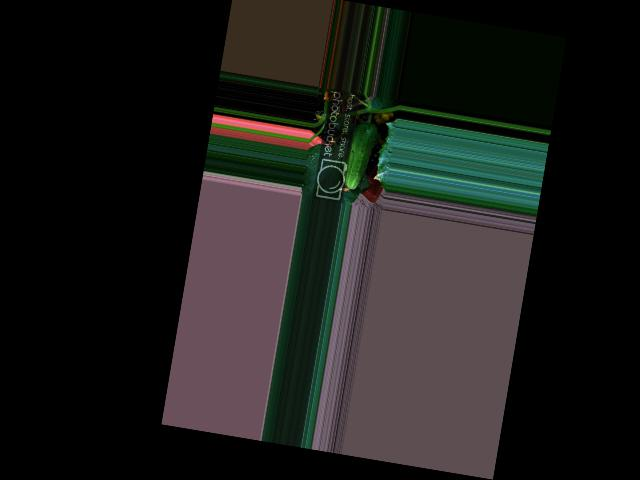cucumber: (339, 120, 378, 192)
